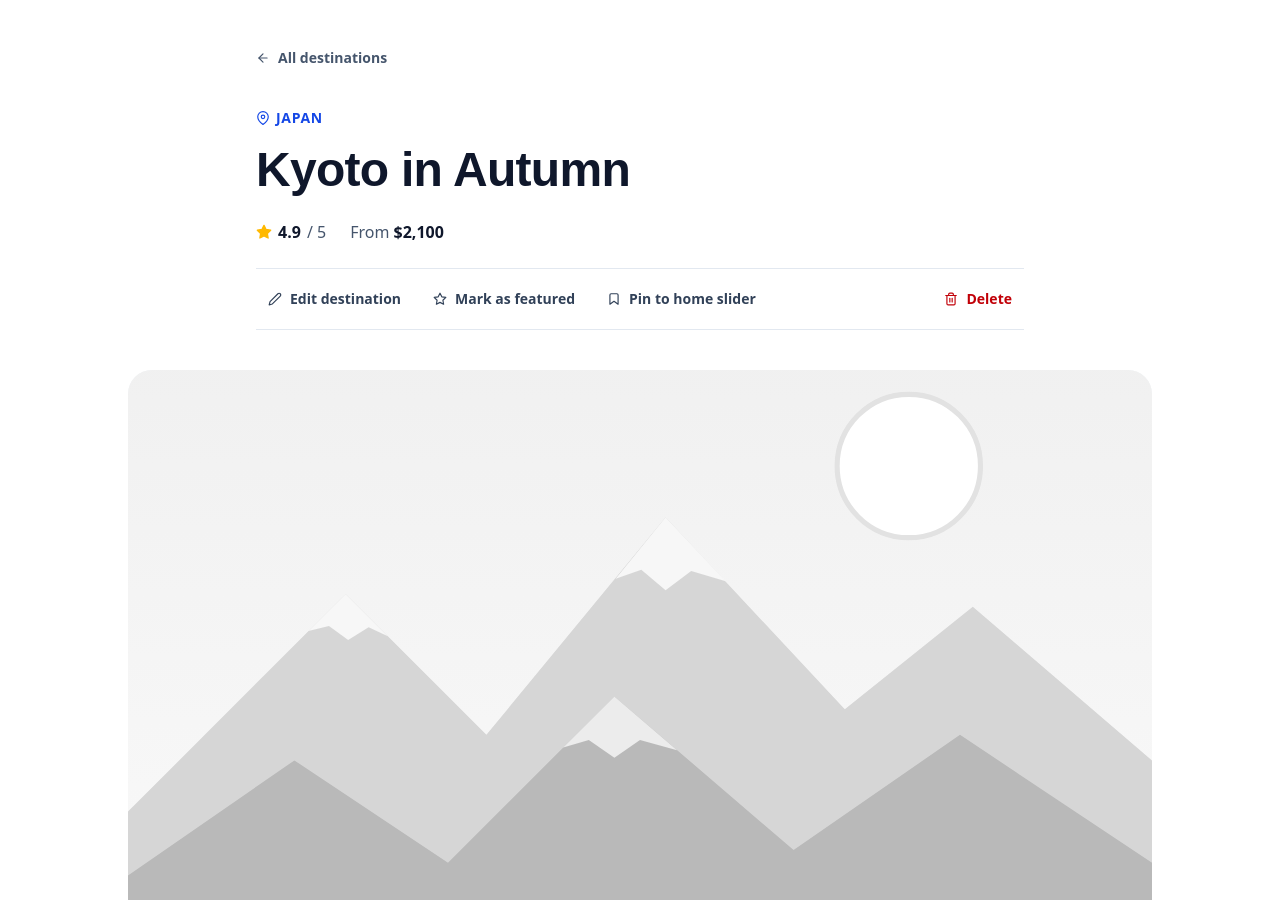
Test case: DestinationDetails › lets an admin pin the destination to the home slider
Click the button "Pin to home slider": (681, 299) [595,281,768,317]
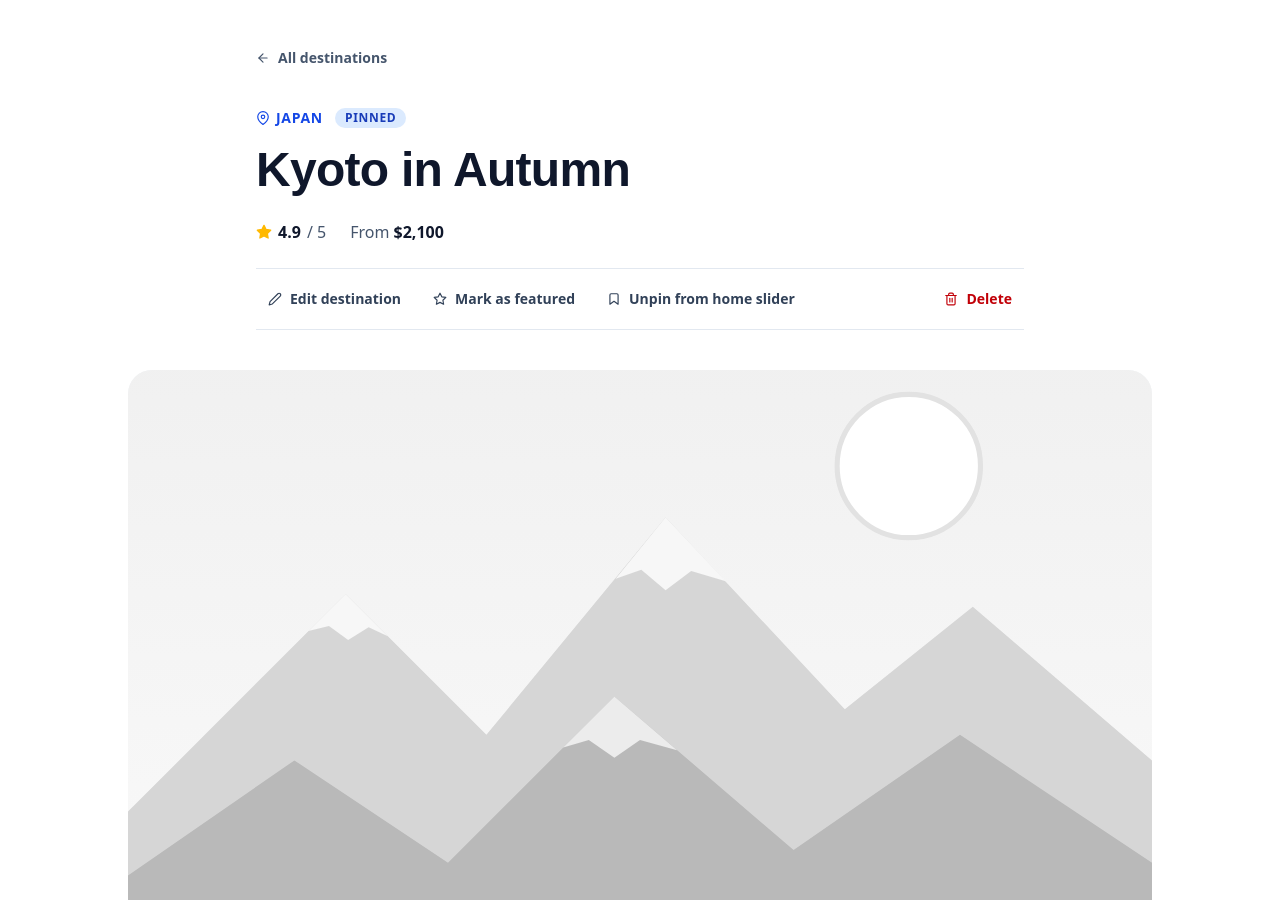
Check: the button "Mark as featured" is shown, box [421,281,587,317]
Check: the button "Unpin from home slider" is shown, box [595,281,807,317]
Check: the text "Pinned" is shown, box [335,108,406,128]
